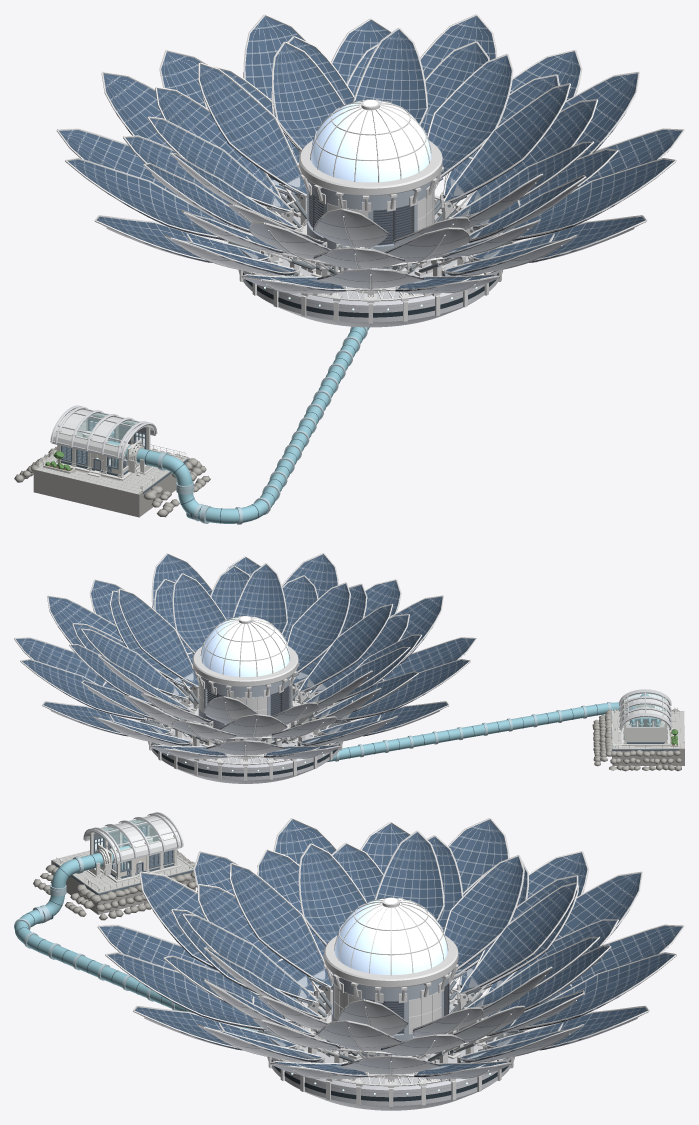
Rendered from bay-flower-receiver-nobeam.glb.
3 renders of one model, top to bottom at view 1: azimuth 30°, elevation 25°; view 2: azimuth 150°, elevation 25°; view 3: azimuth 270°, elevation 25°, orthographic. The views are drawn at different scales.
Parts seen in each view (by area): view 1: Q02B_Receiver_panel, Q02B_Receiver_frame, Q02B_Receiver_shell, Q02B_Receiver_dome, Q02B_SubseaLink_duct, Q02B_Receiver_base, Q02B_ShoreStation_pav_base, Q02B_ShoreStation_pav_frame, Q02B_Receiver_collar, Q02B_ShoreStation_pav_rib, Q02B_SubseaLink_sub_frame, Q02B_ShoreStation_pav_tile (+9 smaller); view 2: Q02B_Receiver_panel, Q02B_Receiver_frame, Q02B_Receiver_shell, Q02B_Receiver_dome, Q02B_SubseaLink_duct, Q02B_Receiver_base, Q02B_ShoreStation_rock, Q02B_ShoreStation_pav_frame, Q02B_Receiver_collar, Q02B_ShoreStation_pav_rib, Q02B_ShoreStation_pav_tile, Q02B_Receiver_petal_rib (+8 smaller); view 3: Q02B_Receiver_panel, Q02B_Receiver_frame, Q02B_Receiver_shell, Q02B_Receiver_dome, Q02B_Receiver_base, Q02B_SubseaLink_duct, Q02B_ShoreStation_rock, Q02B_ShoreStation_pav_frame, Q02B_Receiver_collar, Q02B_ShoreStation_pav_rib, Q02B_Receiver_petal_rib, Q02B_ShoreStation_pav_roof (+8 smaller).
Boxes of the visible parts, x1,y1,x2,y2 form: Q02B_Receiver_panel: (59,16,681,288); Q02B_Receiver_frame: (56,14,684,323); Q02B_Receiver_shell: (73,72,668,293); Q02B_Receiver_dome: (311,100,431,182); Q02B_SubseaLink_duct: (108,327,369,523); Q02B_Receiver_base: (238,202,502,327); Q02B_ShoreStation_pav_base: (33,459,187,517); Q02B_ShoreStation_pav_frame: (38,414,186,490); Q02B_Receiver_collar: (307,179,433,270); Q02B_ShoreStation_pav_rib: (50,405,157,460); Q02B_SubseaLink_sub_frame: (157,326,367,524); Q02B_ShoreStation_pav_tile: (36,449,187,494); Q02B_Receiver_panel: (16,554,474,755); Q02B_Receiver_frame: (14,553,476,780); Q02B_Receiver_shell: (37,606,464,758); Q02B_Receiver_dome: (201,616,289,676); Q02B_SubseaLink_duct: (327,694,649,762); Q02B_Receiver_base: (148,697,342,783); Q02B_ShoreStation_rock: (592,708,681,771); Q02B_ShoreStation_pav_frame: (612,698,678,748); Q02B_Receiver_collar: (198,674,292,741); Q02B_ShoreStation_pav_rib: (619,689,671,730); Q02B_ShoreStation_pav_tile: (611,711,684,749); Q02B_Receiver_petal_rib: (51,655,440,758); Q02B_Receiver_panel: (100,819,682,1074); Q02B_Receiver_frame: (97,818,684,1106); Q02B_Receiver_shell: (113,891,668,1079); Q02B_Receiver_dome: (334,898,447,975); Q02B_Receiver_base: (267,993,514,1110); Q02B_SubseaLink_duct: (14,845,257,1031); Q02B_ShoreStation_rock: (33,849,197,920); Q02B_ShoreStation_pav_frame: (56,821,194,892); Q02B_Receiver_collar: (331,972,450,1057); Q02B_ShoreStation_pav_rib: (83,812,183,863); Q02B_Receiver_petal_rib: (144,946,637,1078); Q02B_ShoreStation_pav_roof: (85,816,180,860).
Size of the model in its own units: 169 by 47.6 by 142.
Materials: 27 (3 with a texture image).
